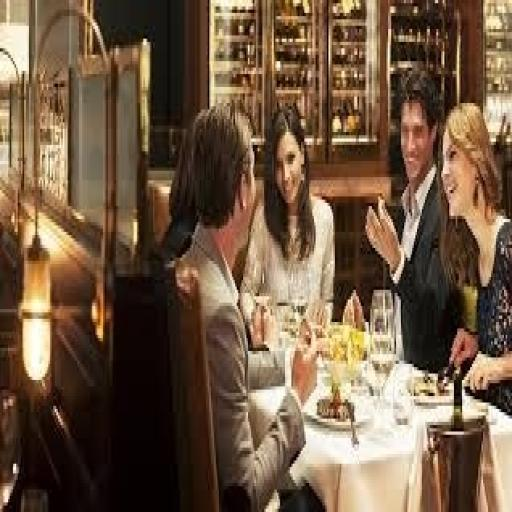eating: (170, 96, 324, 508)
